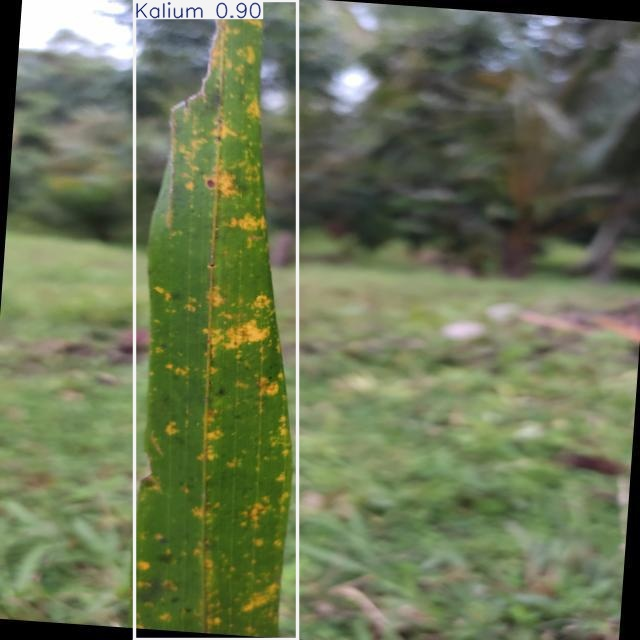Kalium: (135, 0, 297, 639)
